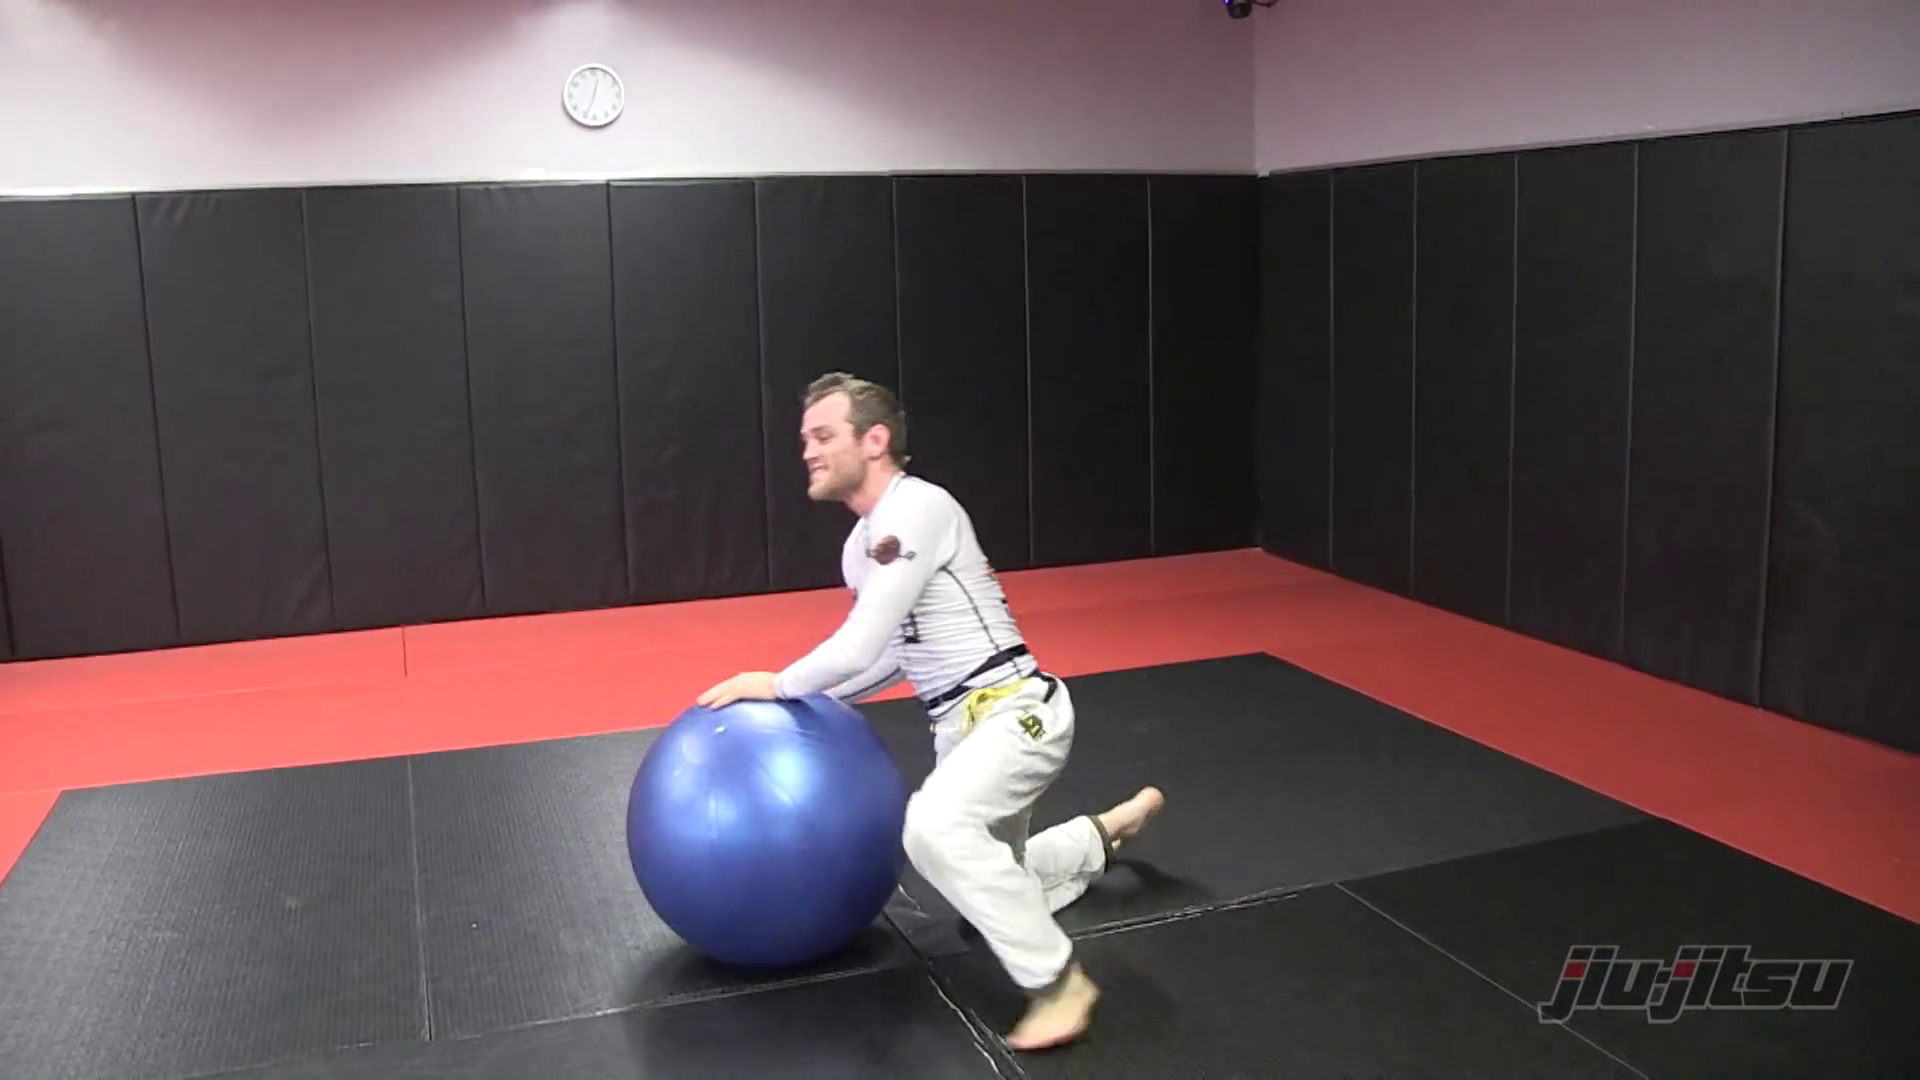yogaball: (611, 680, 919, 986)
